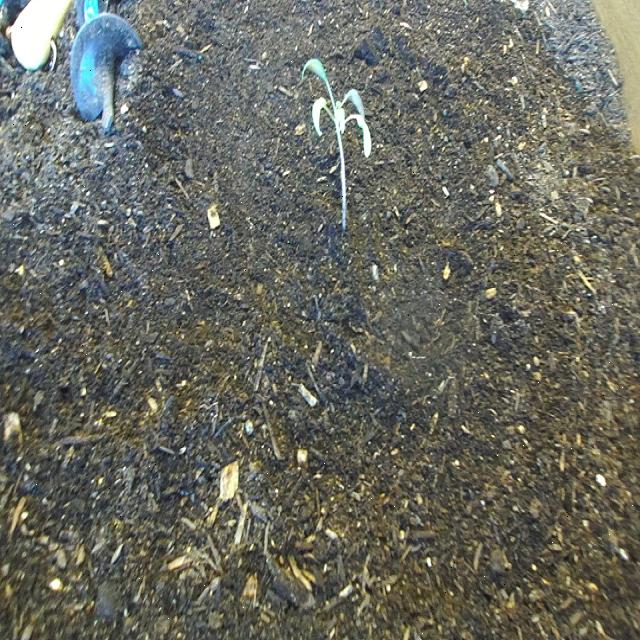Unhealthy: (300, 54, 375, 242)
